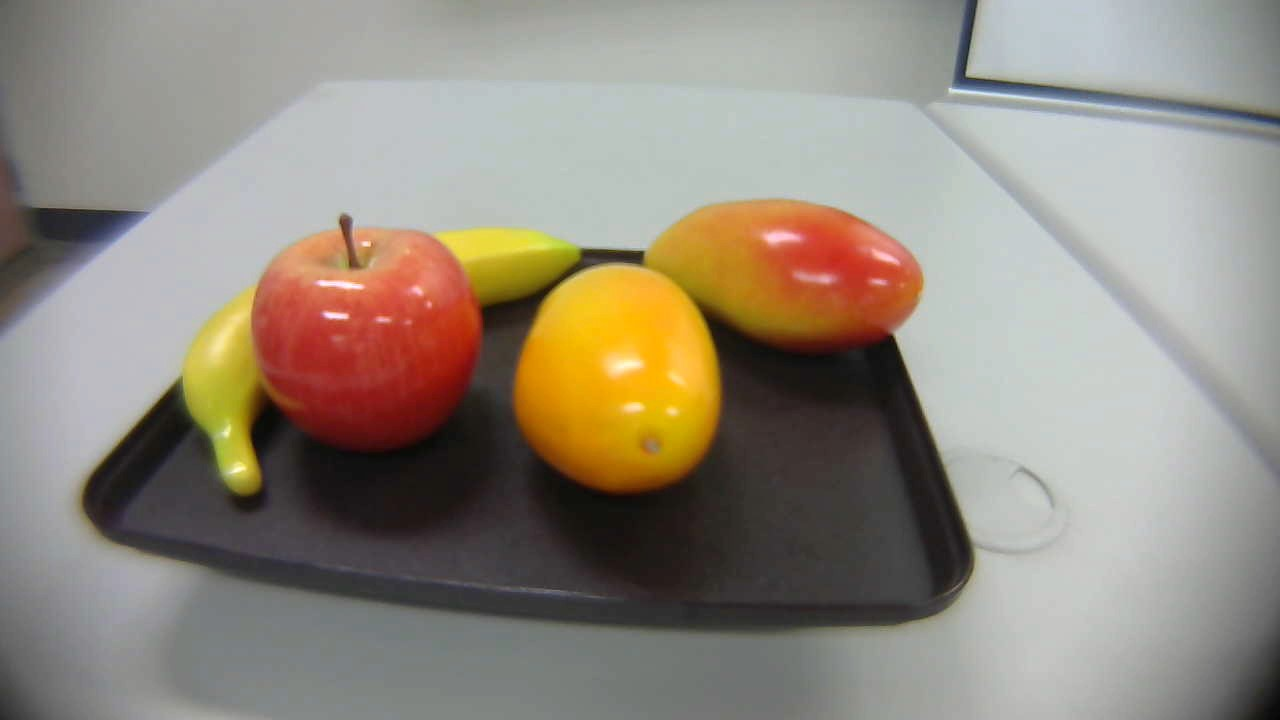banana: (175, 219, 582, 488)
red apple: (242, 208, 487, 458)
red mango: (635, 194, 933, 369)
yellow mango: (490, 249, 728, 504)
